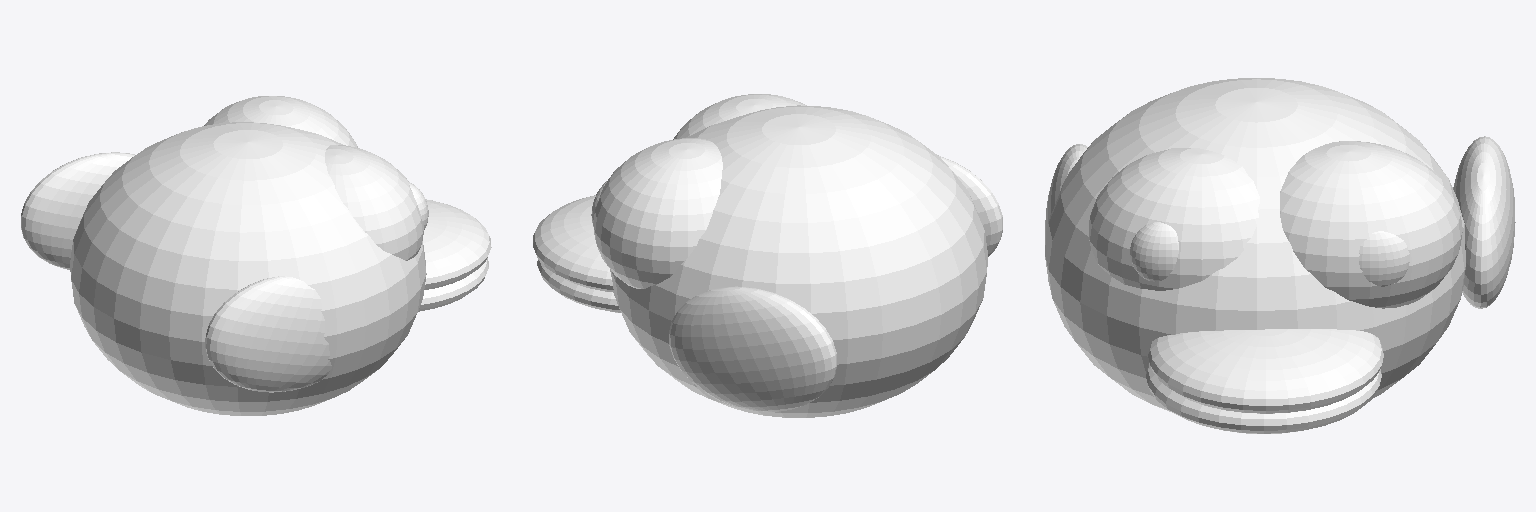
The robot description file, URDF, robot "bird_model":
<?xml version="1.0" ?>
<robot name="bird_model">

  <link name="base_link"> 
    <inertial>
      <origin rpy="0 0 0" xyz="0 0 0"/>
      <mass value="0.5"/>
      <inertia ixx="0.001" ixy="0" ixz="0" iyy="0.001" iyz="0" izz="0.001"/>
    </inertial>

    <visual>
      <origin rpy="0 0 0" xyz="0 0 0"/>
      <geometry>
        <mesh filename="./model.dae" scale="1 1 1"/>
      </geometry> 
      <material name="bird_color">
        <color rgba="1 1 1 1"/>
      </material> 
    </visual>

    <collision>
      <origin rpy="0 0 0" xyz="0 0 0"/>
      <geometry>
        <mesh filename="./model.dae" scale="1 1 1"/>
      </geometry>
    </collision>  
  </link>

</robot>

--- Facts derived from the render (not from the file) ---
Views: 3 orthographic renders of the robot side by side, from view 1: azimuth 30°, elevation 25°; view 2: azimuth 150°, elevation 25°; view 3: azimuth 270°, elevation 25°.
Robot: bird_model — 1 links, 0 joints (none); root link base_link; default pose: every joint at zero.
Links seen in each view (by area): view 1: base_link; view 2: base_link; view 3: base_link.
Boxes of the visible links, box(x1,y1,x2,y2) form: base_link: box(21, 96, 491, 415); base_link: box(533, 94, 1002, 417); base_link: box(1045, 78, 1515, 433).
Bounding box of the posed robot: 1.24 × 1.09 × 0.7707 m (x, y, z).
Meshes: 1 distinct files referenced, 1 mesh visuals loaded (1 Collada DAE).